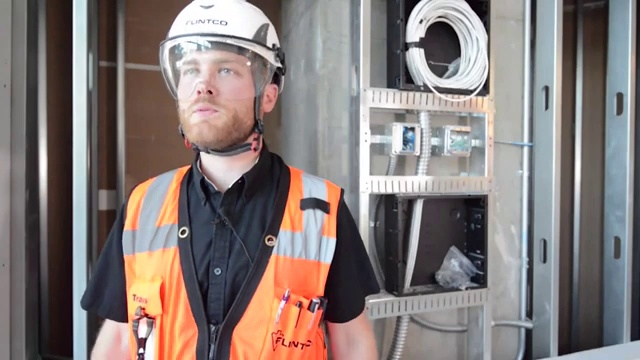helmet: (155, 1, 294, 100)
jacket: (115, 165, 362, 360)
